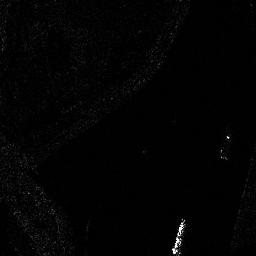ship: (171, 216, 188, 254)
